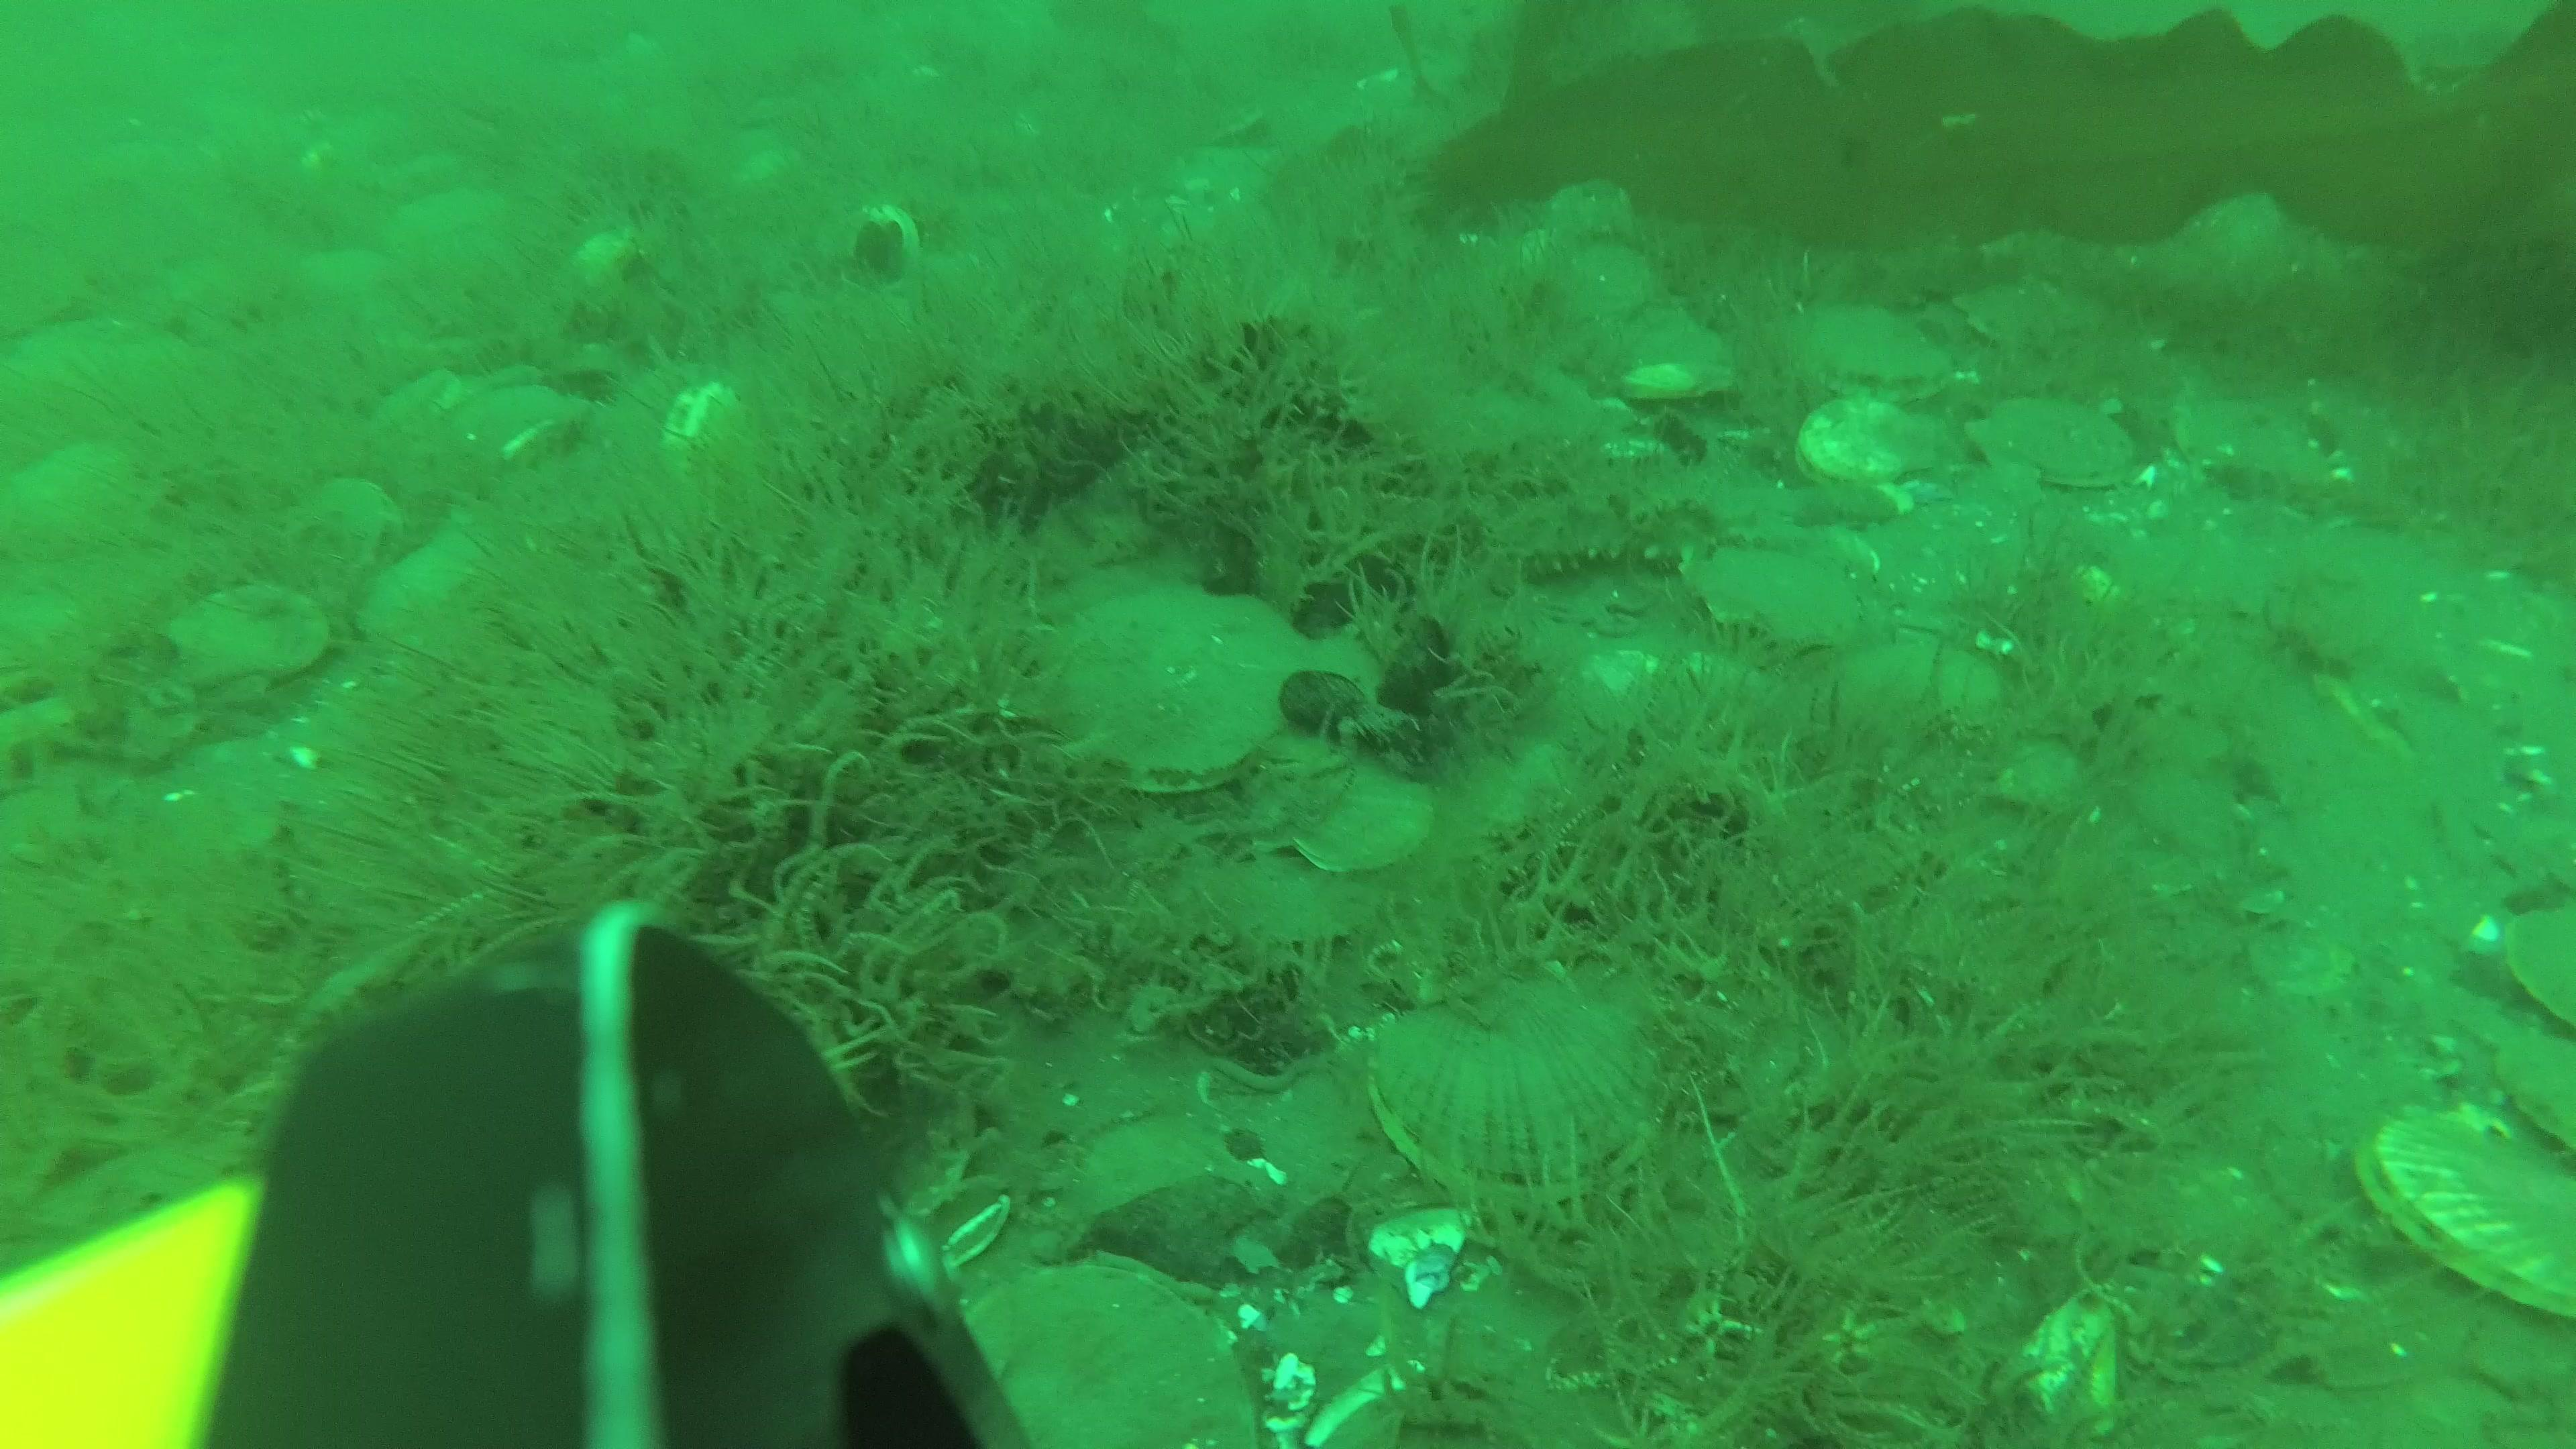holothurian: (1481, 476, 1713, 587)
scallop: (1368, 987, 1660, 1205), (957, 1258, 1254, 1449), (1054, 582, 1315, 798), (2371, 1079, 2576, 1323), (1214, 1049, 1405, 1249), (1077, 1122, 1276, 1302), (1690, 533, 1863, 658), (1247, 630, 1391, 773), (1214, 828, 1382, 948), (1851, 639, 2003, 759), (172, 582, 334, 692), (14, 448, 159, 564), (1785, 297, 1951, 398), (1985, 384, 2135, 488), (1293, 755, 1426, 872), (347, 536, 490, 640), (276, 467, 398, 575), (1796, 398, 1948, 479), (2495, 1028, 2576, 1155), (2500, 897, 2576, 1030), (1552, 241, 1649, 322)
